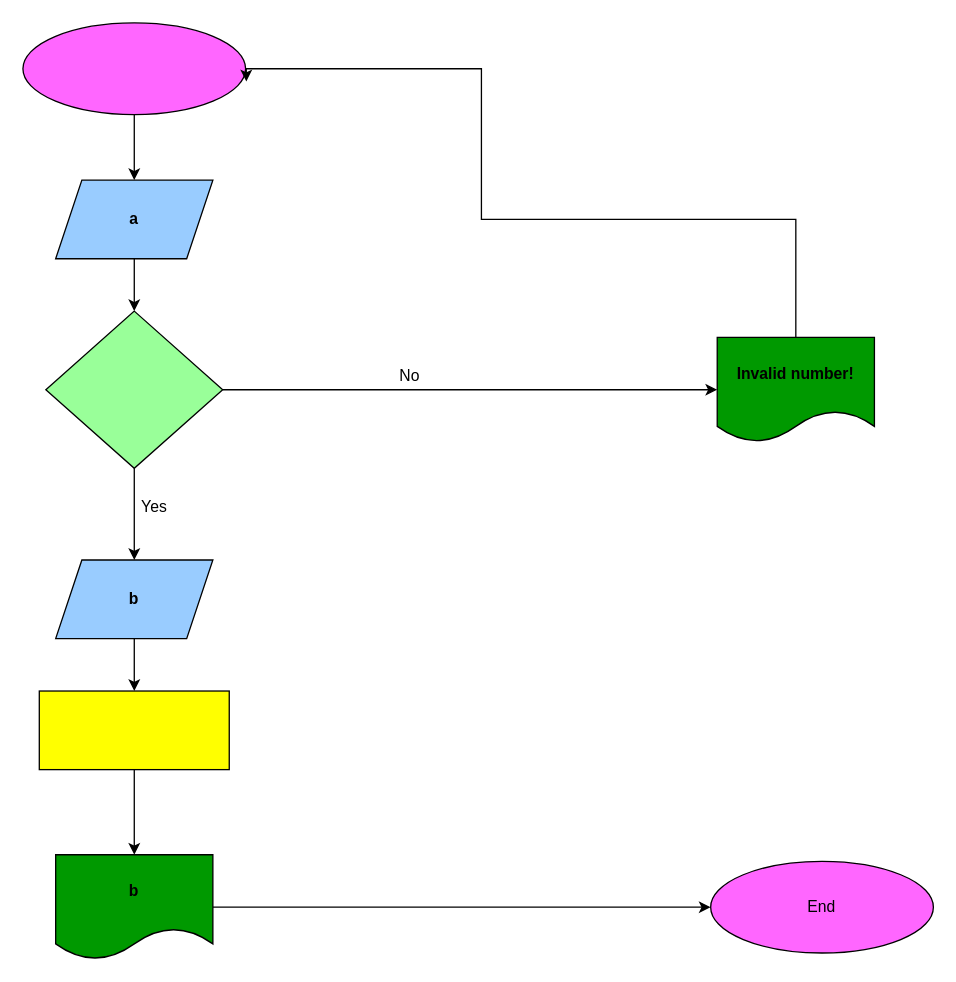
Image size: 956x982. Some labels were removed from this diagram. Each missing label, with the box of its shape:
a >= 1000 and a < 10000: (45, 310, 223, 468)
b = (a + 70000) * 10 + 8: (38, 690, 229, 770)
Start: (22, 22, 246, 115)
